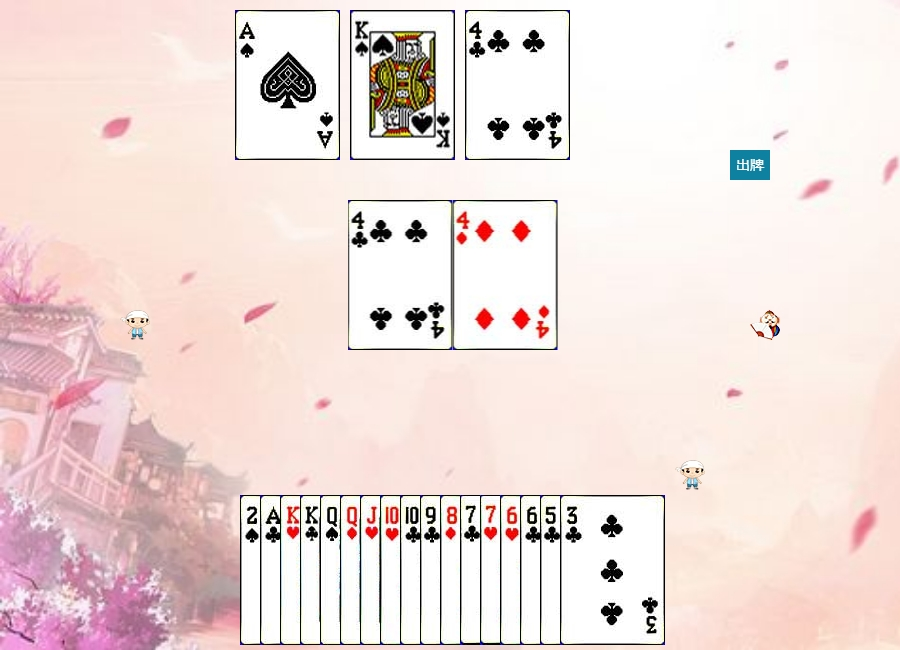10~2: (400, 495, 505, 645)
10~3: (380, 495, 485, 645)
11~3: (360, 495, 465, 645)
12~1: (340, 495, 445, 645)
12~4: (320, 495, 425, 645)
13~2: (300, 495, 405, 645)
13~3: (280, 495, 385, 645)
13~4: (350, 10, 455, 160)
14~2: (260, 495, 365, 645)
14~4: (235, 10, 340, 160)
15~4: (240, 495, 345, 645)
3~2: (560, 495, 665, 645)
4~1: (453, 200, 558, 350)
4~2: (465, 10, 570, 160), (348, 200, 453, 350)
5~2: (540, 495, 645, 645)
6~2: (520, 495, 625, 645)
6~3: (500, 495, 605, 645)
7~2: (460, 495, 565, 645)
7~3: (480, 495, 585, 645)
8~1: (440, 495, 545, 645)
9~2: (420, 495, 525, 645)
